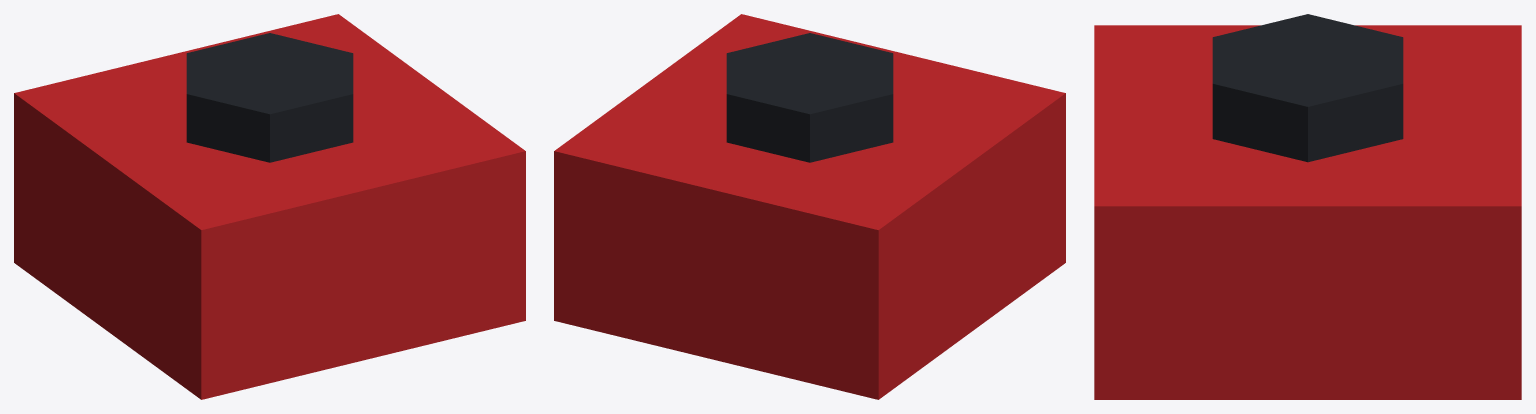
The model's file is battery_switch_blue_sea_6006.far.glb.
3 renders of one model, left to right at view 1: azimuth 30°, elevation 25°; view 2: azimuth 150°, elevation 25°; view 3: azimuth 270°, elevation 25°, orthographic. The views are drawn at different scales.
Parts seen in each view (by area): view 1: battery_switch_blue_sea_6006; view 2: battery_switch_blue_sea_6006; view 3: battery_switch_blue_sea_6006.
Boxes of the visible parts, x1,y1,x2,y2 form: battery_switch_blue_sea_6006: (14, 14, 525, 399); battery_switch_blue_sea_6006: (554, 14, 1065, 399); battery_switch_blue_sea_6006: (1094, 14, 1521, 399).
Size of the model in its own units: 0.07 by 0.045 by 0.07.
